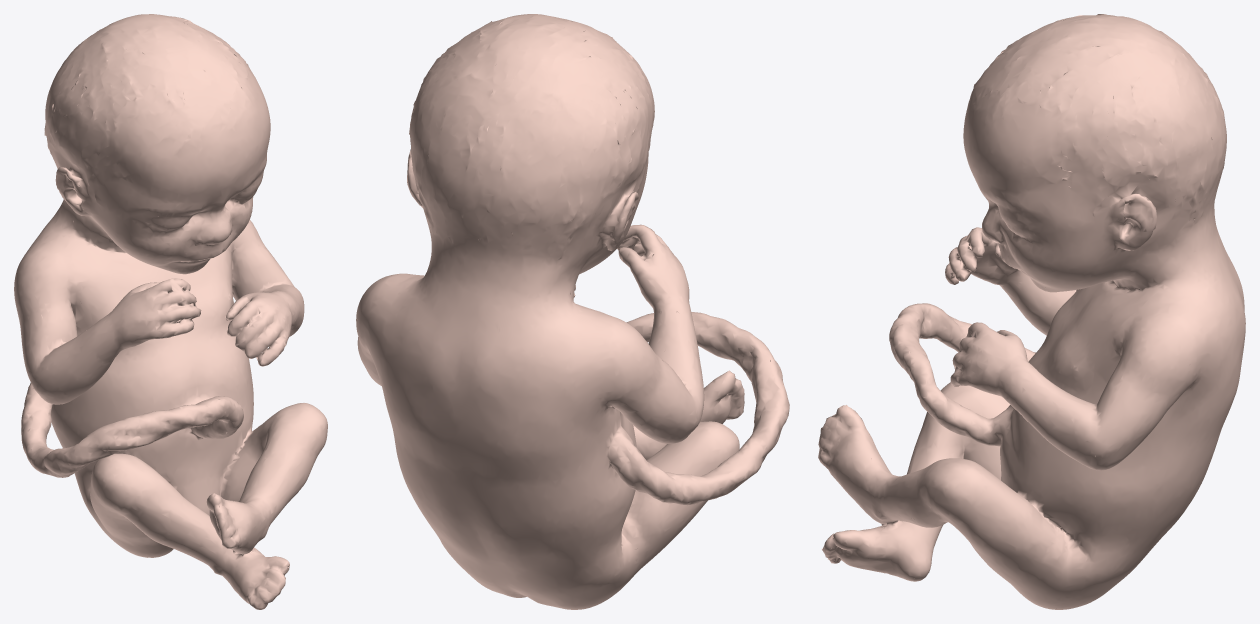
File: semaine-23.glb
The picture shows the model from 3 angles, left to right: view 1: azimuth 30°, elevation 25°; view 2: azimuth 150°, elevation 25°; view 3: azimuth 270°, elevation 25°; orthographic projection. The views are drawn at different scales.
Size of the model in its own units: 1.24 by 2 by 1.38.
